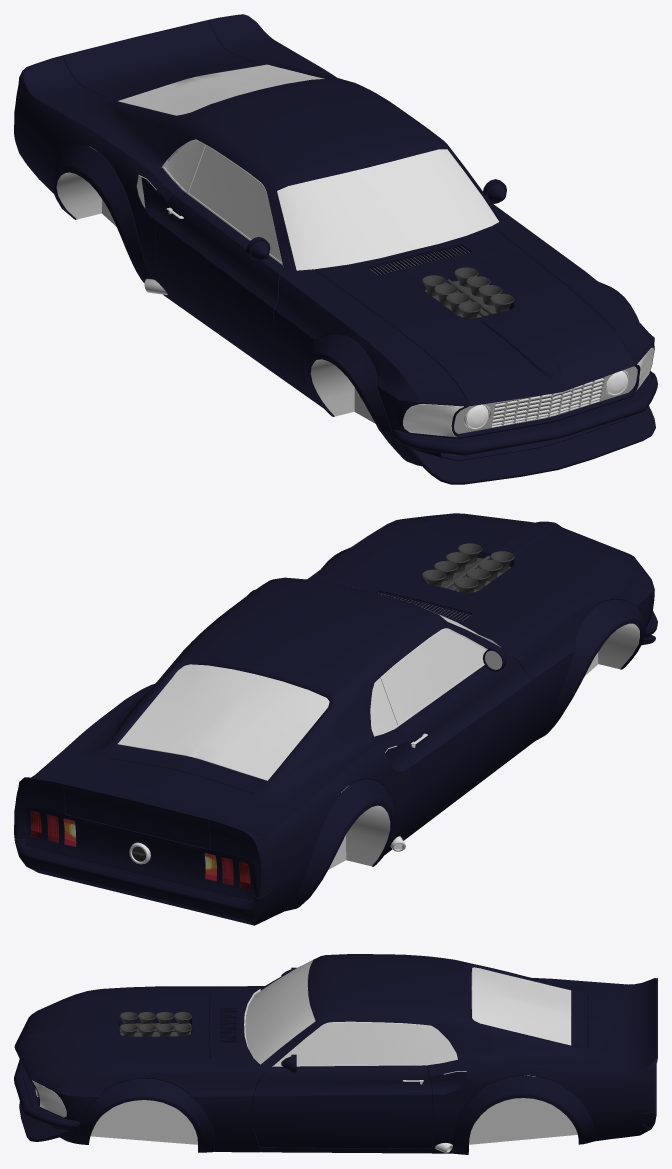
File: Raptor.fbx
3 views of the same model, one above another, from view 1: azimuth 30°, elevation 25°; view 2: azimuth 150°, elevation 25°; view 3: azimuth 270°, elevation 25° (orthographic). The views are drawn at different scales.
Parts seen in each view (by area): view 1: body, window, exhaust, engine, glass_lights, radiator; view 2: body, window, exhaust, engine, lights; view 3: body, window, exhaust, engine, glass_lights, interior.
Boxes of the visible parts, x1=… form: body: x1=14, y1=14, x2=657, y2=484; window: x1=118, y1=64, x2=499, y2=270; exhaust: x1=56, y1=140, x2=637, y2=433; engine: x1=422, y1=267, x2=514, y2=318; glass_lights: x1=403, y1=347, x2=653, y2=437; radiator: x1=137, y1=176, x2=602, y2=455; body: x1=14, y1=513, x2=657, y2=925; window: x1=118, y1=608, x2=485, y2=780; exhaust: x1=129, y1=623, x2=639, y2=869; engine: x1=422, y1=543, x2=514, y2=593; lights: x1=30, y1=810, x2=250, y2=889; body: x1=14, y1=954, x2=657, y2=1154; window: x1=245, y1=960, x2=571, y2=1065; exhaust: x1=37, y1=965, x2=577, y2=1153; engine: x1=119, y1=1012, x2=191, y2=1036; glass_lights: x1=32, y1=1080, x2=66, y2=1117; interior: x1=272, y1=961, x2=535, y2=1076.
Bounding box in the file's own units: 1.81 × 1.09 × 4.73.
Materials: 5 (1 with a texture image).
